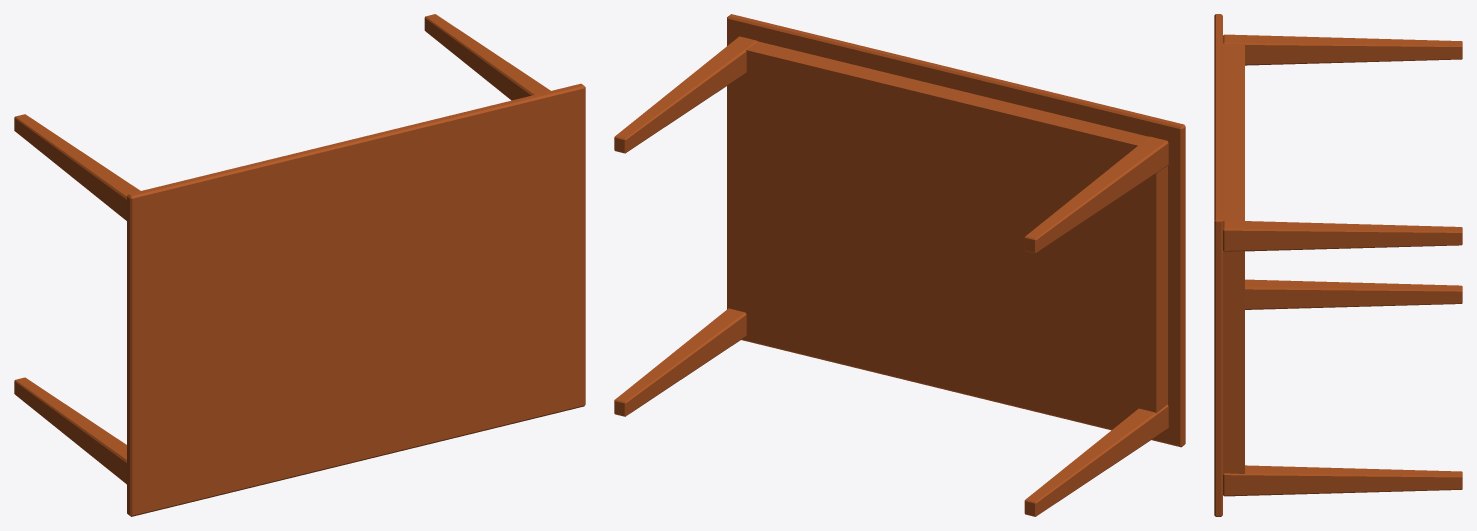
Rendered from Fp203_Cube_052DiningTable_203_0.obj.
3 views of the same model, side by side, from view 1: azimuth 30°, elevation 25°; view 2: azimuth 150°, elevation 25°; view 3: azimuth 270°, elevation 25° (orthographic). The views are drawn at different scales.
Visible parts, largest first — view 1: DiningTable_203; view 2: DiningTable_203; view 3: DiningTable_203.
Part boxes in pixels (box(x1,y1,x2,y2)): DiningTable_203: box(14, 14, 585, 516); DiningTable_203: box(614, 14, 1185, 516); DiningTable_203: box(1214, 14, 1462, 516).
Bounding box in the file's own units: 1.47 × 0.9882 × 0.7475.
